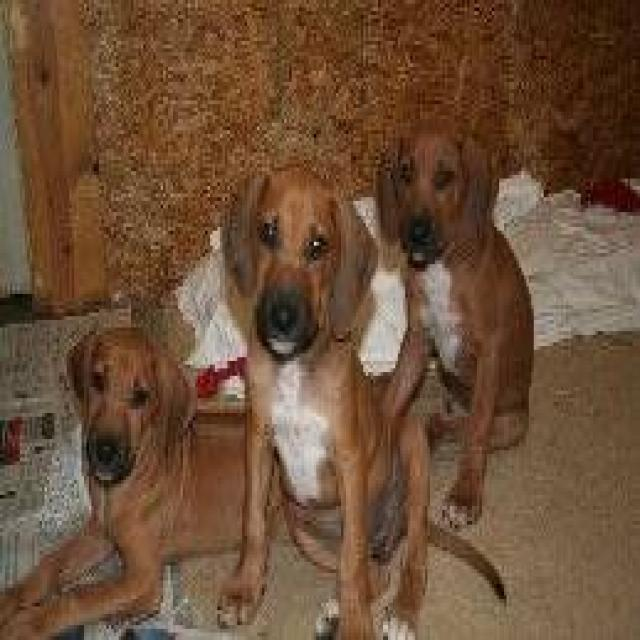dog: (215, 156, 507, 636), (373, 116, 534, 528)
